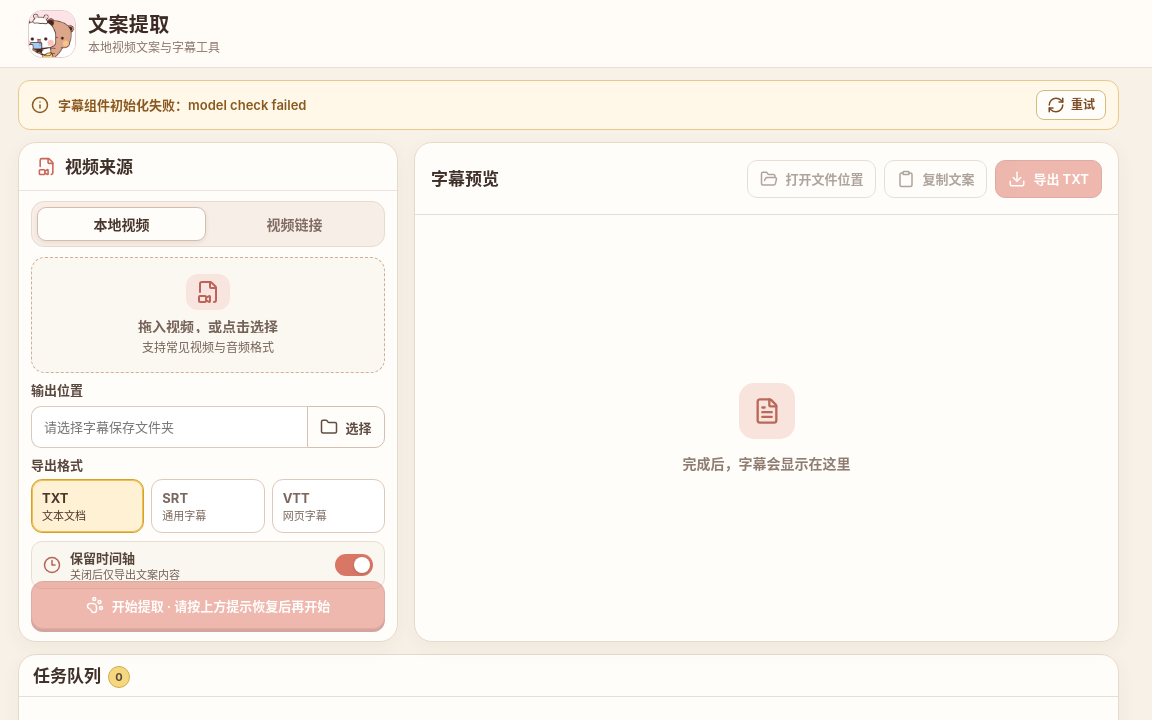
Test: App › lets the user retry app initialization without losing other features
Expected: the text "字幕组件初始化失败：model check failed" is shown, [58,97,306,113]
Click the button "重试".
click(1071, 105)  # box [1036,90,1106,120]
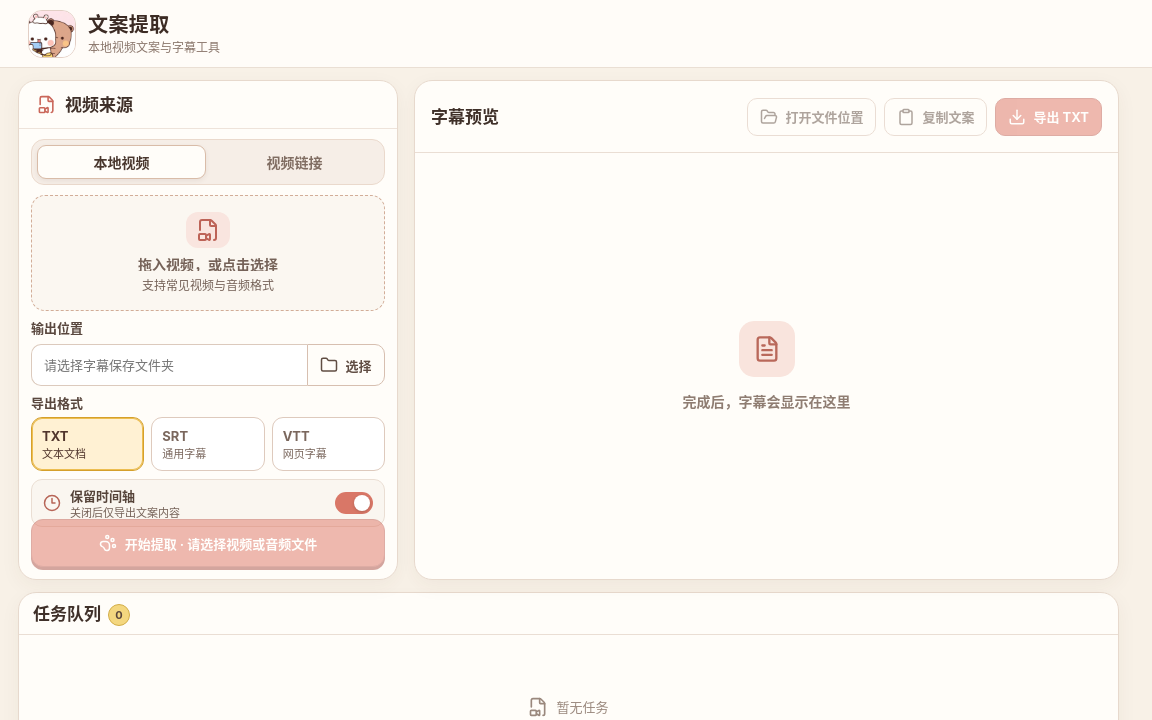
Expected: the button "开始提取 · 请选择视频或音频文件" is shown, [31,519,385,567]
